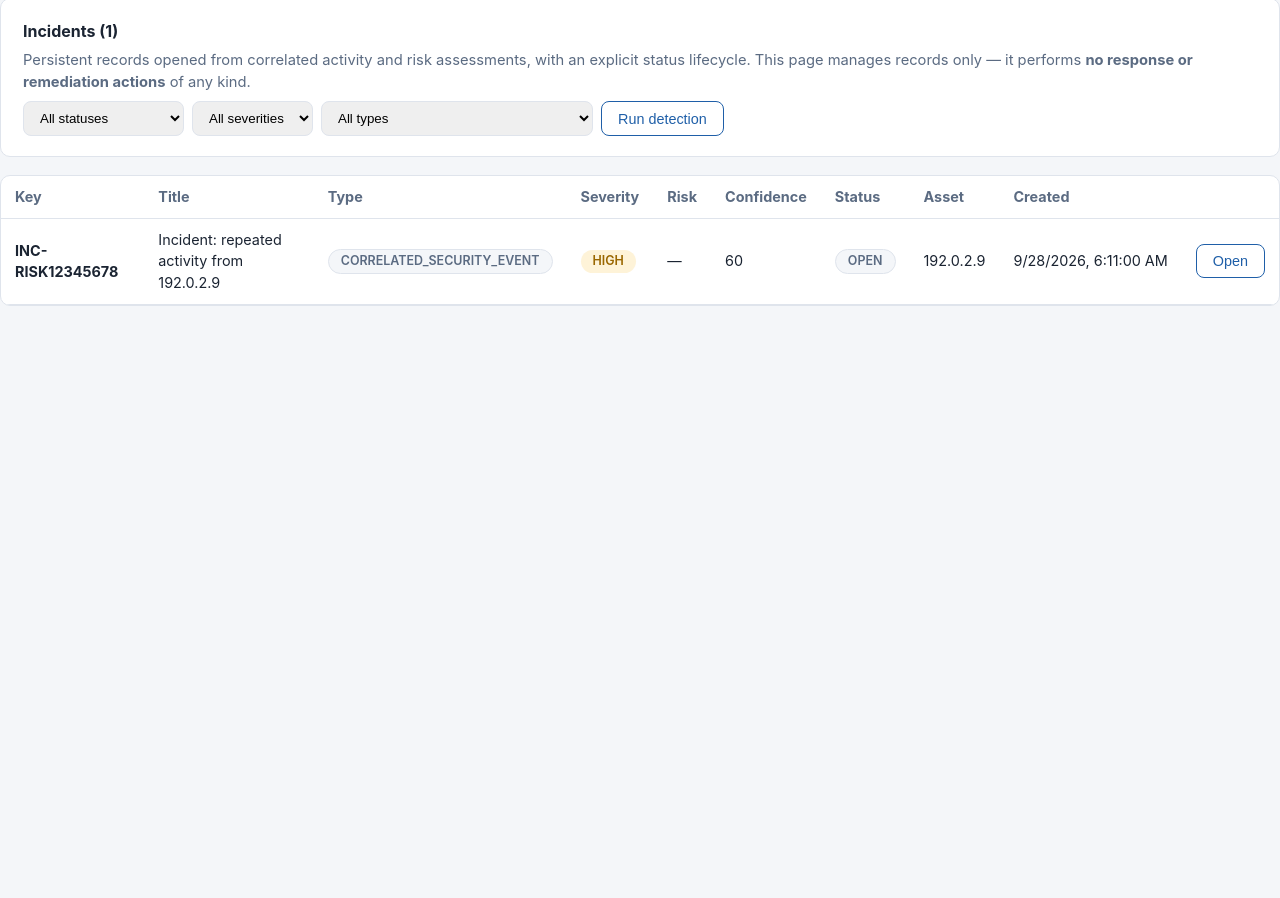
Test: Incident risk panel (Step 25) › renders a stored assessment without recalculating
Click the button "Open".
click(1230, 261)  # box [1196,244,1265,278]
(page scrolled)
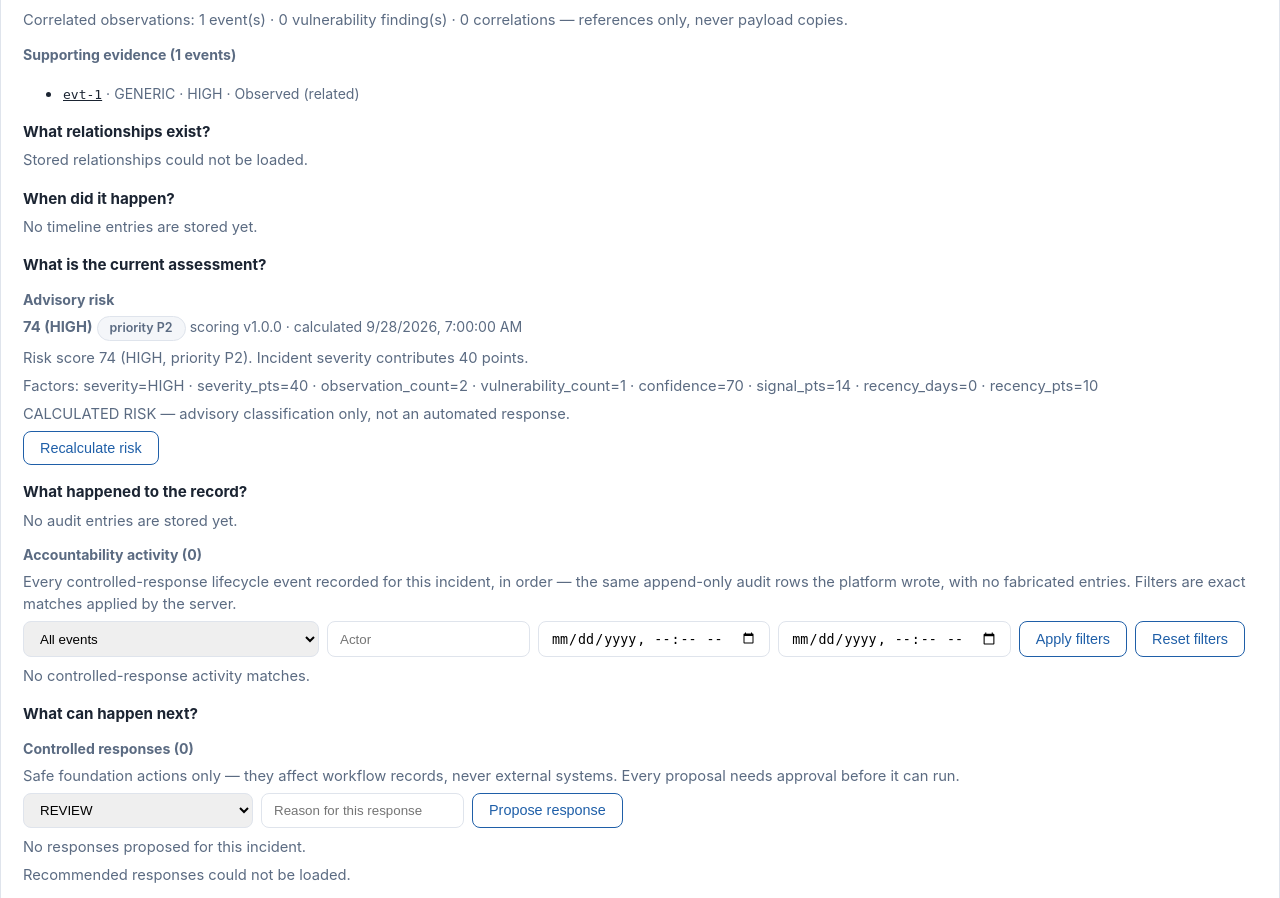
Now the button "Recalculate risk" is shown, box [23,431,159,465]
